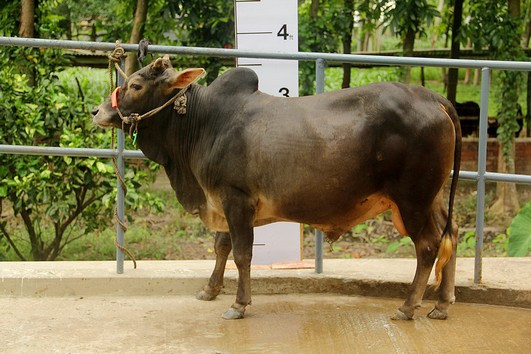cow: (86, 51, 467, 328)
